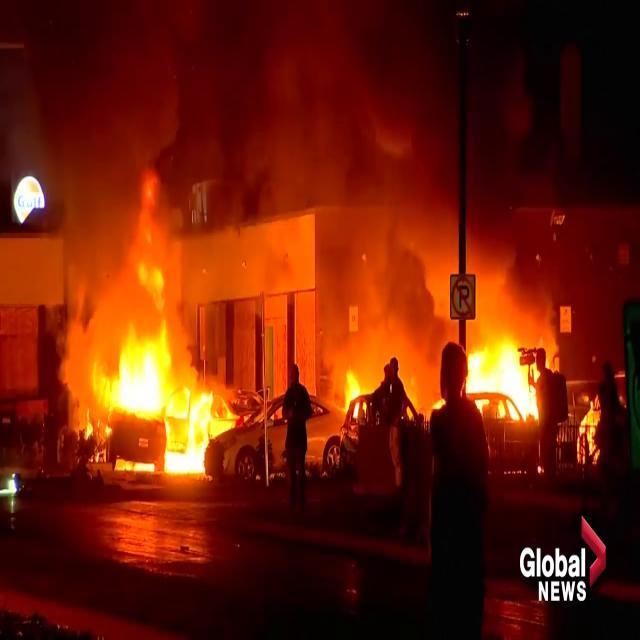Fire: (84, 288, 230, 478), (459, 318, 547, 426), (336, 356, 371, 429), (576, 390, 602, 468)
Smoke: (21, 1, 556, 303)
